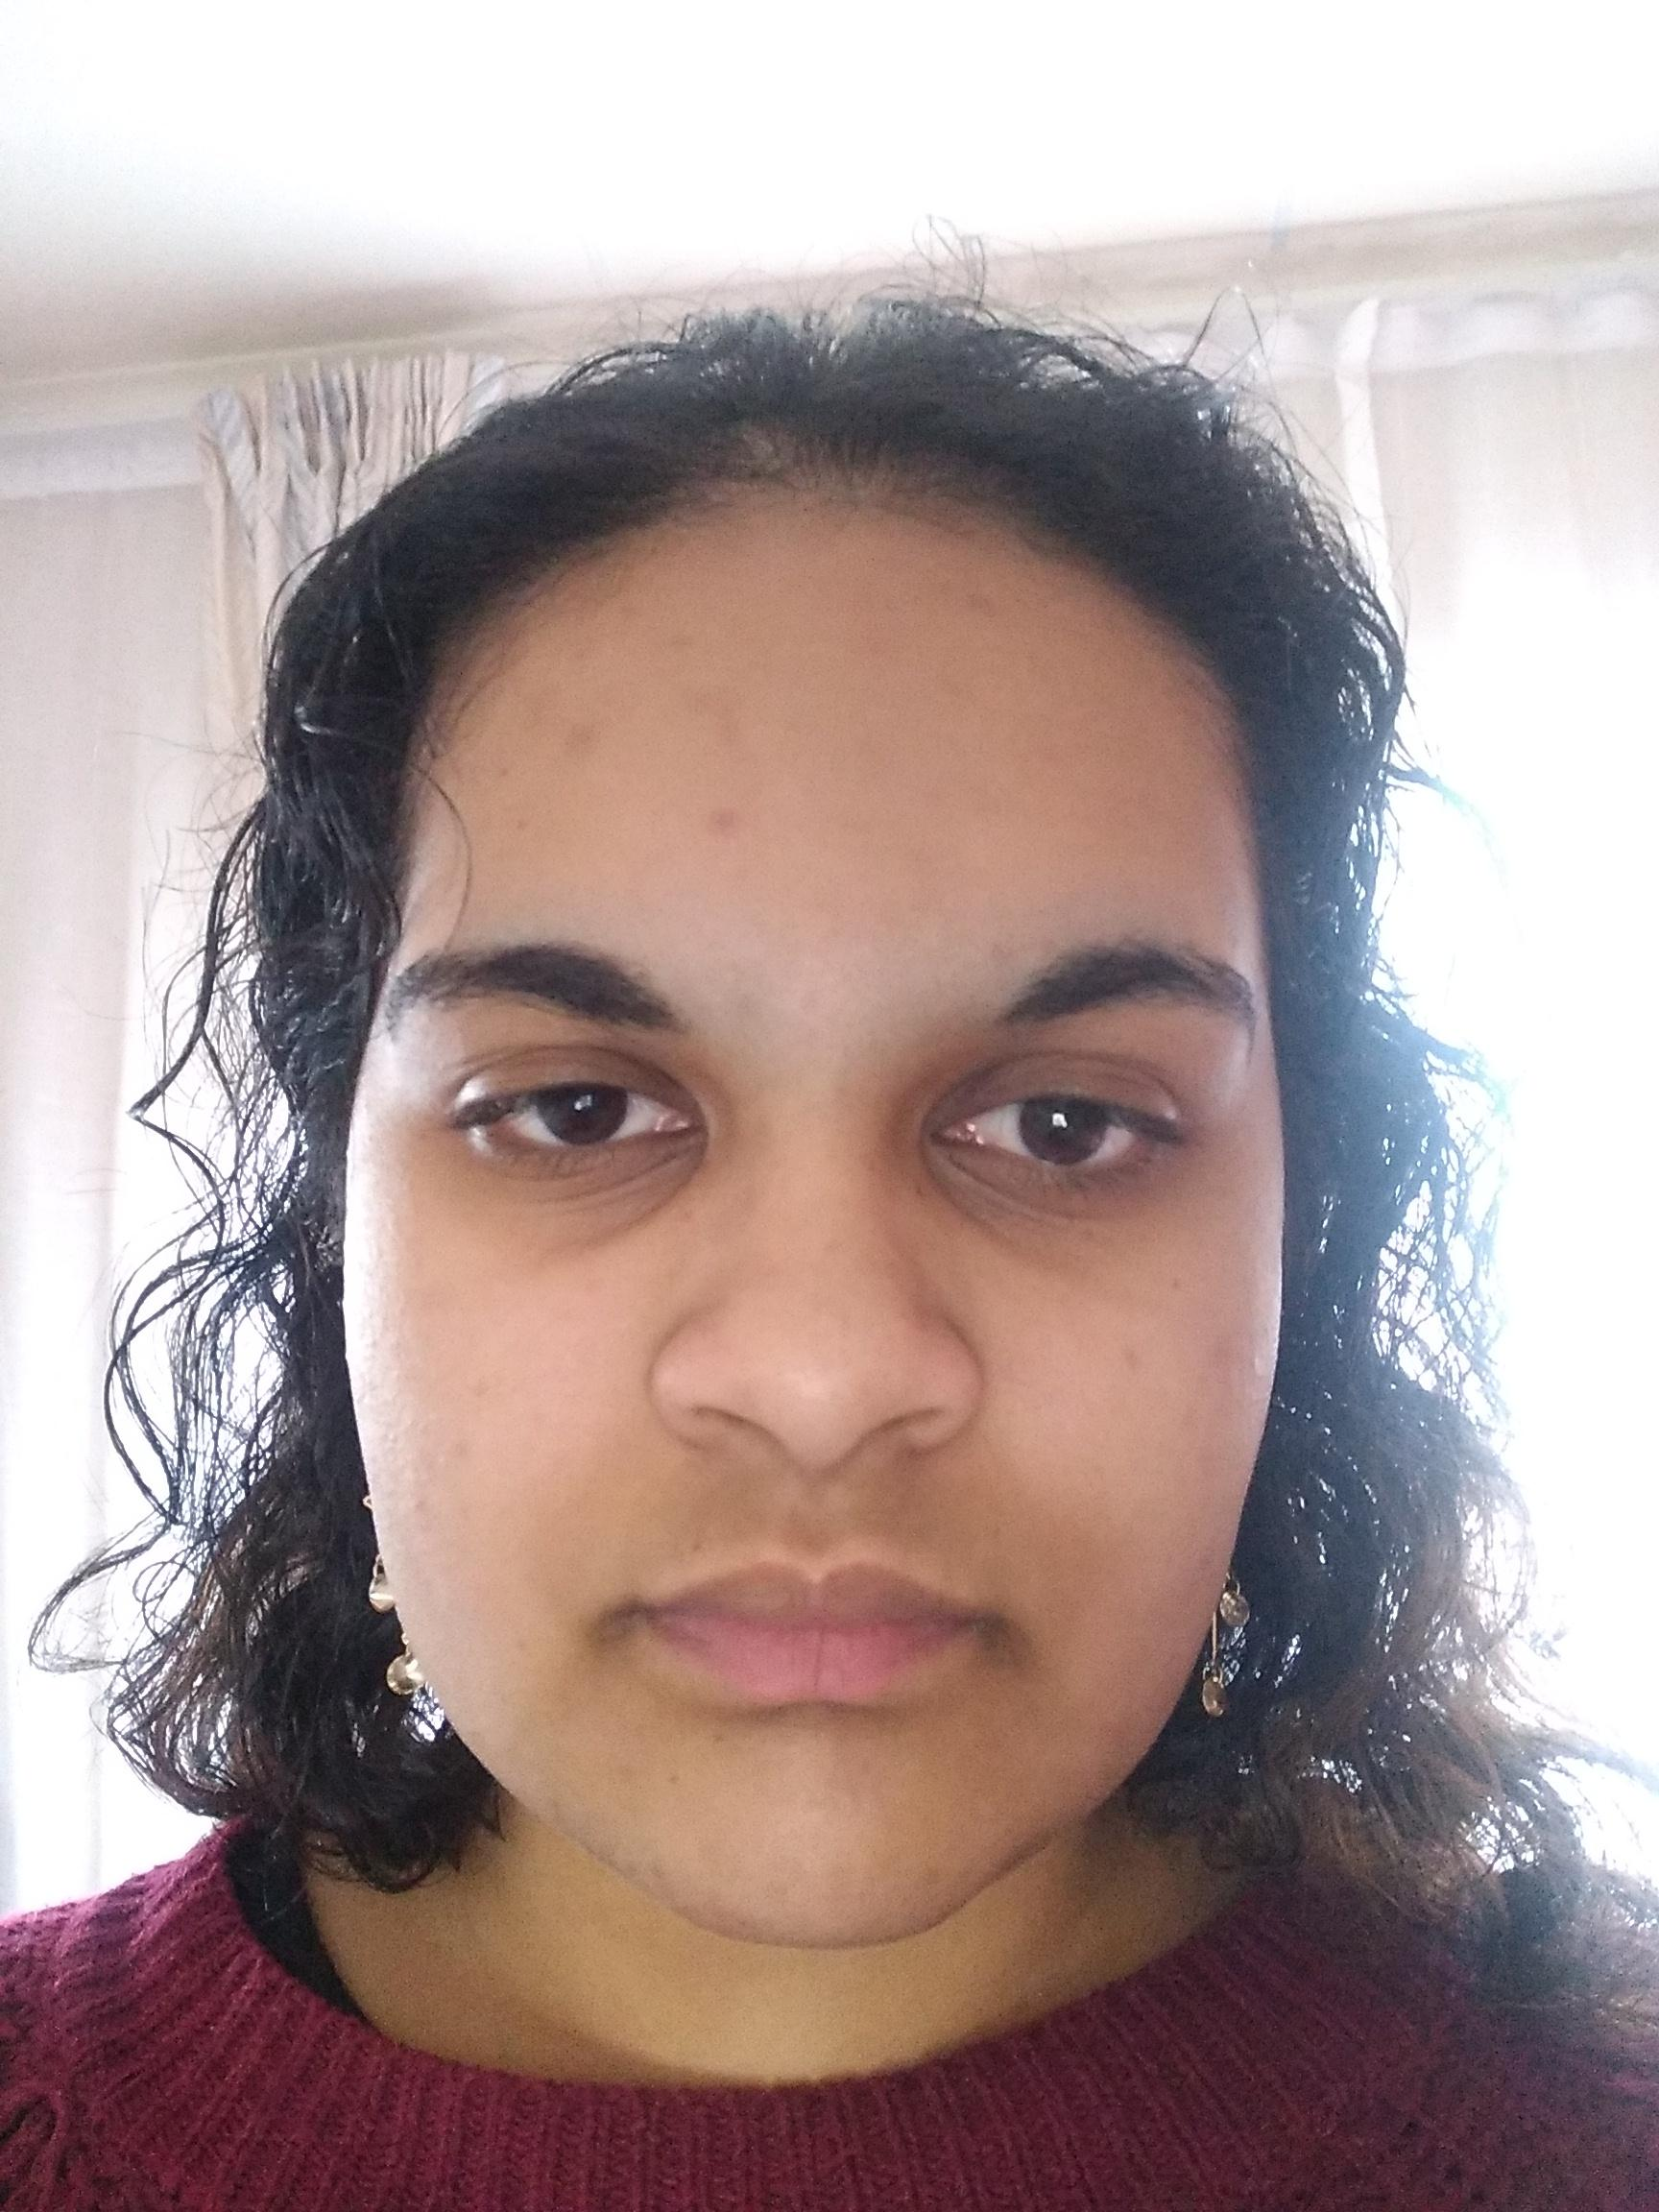Acne: (552, 718, 612, 759), (653, 617, 708, 662), (709, 803, 748, 850), (971, 934, 1028, 965), (1107, 1348, 1168, 1376), (958, 582, 1002, 620), (629, 1853, 673, 1890), (451, 1432, 483, 1479), (1244, 1353, 1276, 1385), (922, 1862, 948, 1892)
Eyebags: (920, 1137, 1190, 1266), (451, 1116, 711, 1247)
